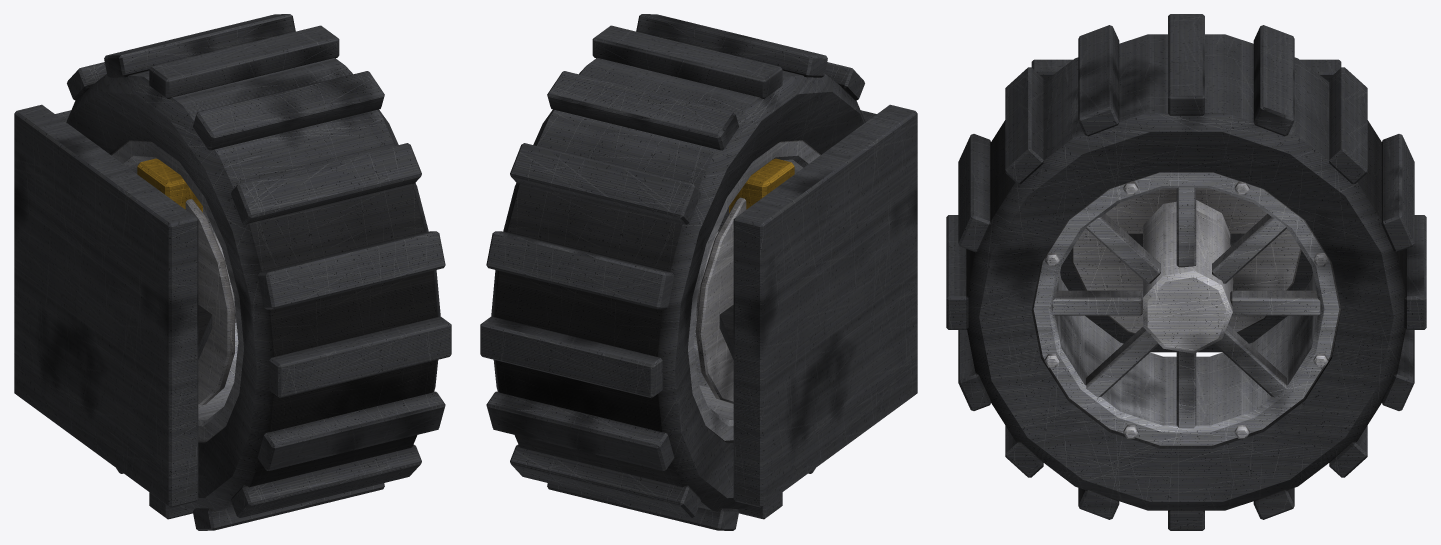
File: R4M_WheelM_Side_Offroad.glb
3 renders of one model, left to right at view 1: azimuth 30°, elevation 25°; view 2: azimuth 150°, elevation 25°; view 3: azimuth 270°, elevation 25°, orthographic.
Visible parts, largest first — view 1: R4M_WheelM_Side_Offroad_Rotor, R4M_WheelM_Side_Offroad_Mount; view 2: R4M_WheelM_Side_Offroad_Rotor, R4M_WheelM_Side_Offroad_Mount; view 3: R4M_WheelM_Side_Offroad_Rotor, R4M_WheelM_Side_Offroad_Mount.
Boxes of the visible parts, x1,y1,x2,y2 form: R4M_WheelM_Side_Offroad_Rotor: (55, 14, 451, 530); R4M_WheelM_Side_Offroad_Mount: (14, 104, 234, 507); R4M_WheelM_Side_Offroad_Rotor: (480, 14, 876, 530); R4M_WheelM_Side_Offroad_Mount: (695, 104, 917, 507); R4M_WheelM_Side_Offroad_Rotor: (946, 14, 1426, 530); R4M_WheelM_Side_Offroad_Mount: (1031, 59, 1341, 352).
Size of the model in its own units: 0.452 by 0.776 by 0.776.
Materials: 4 (4 with a texture image).
